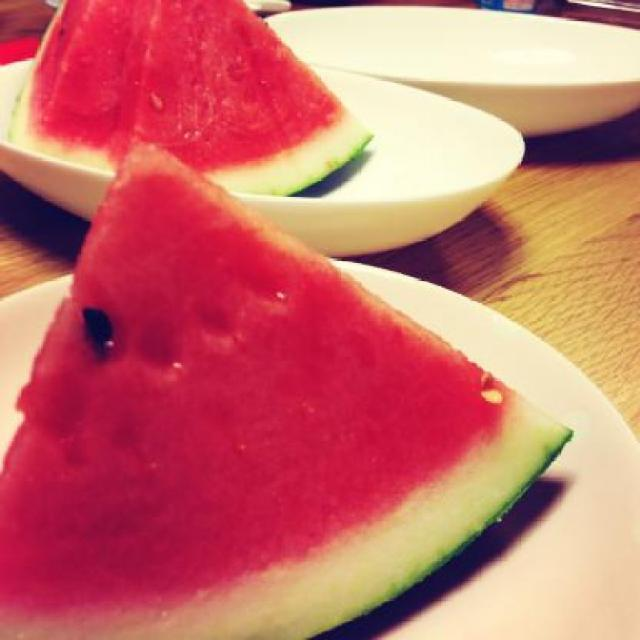Watermelon: (0, 140, 571, 638), (112, 0, 372, 198), (4, 0, 128, 169)
